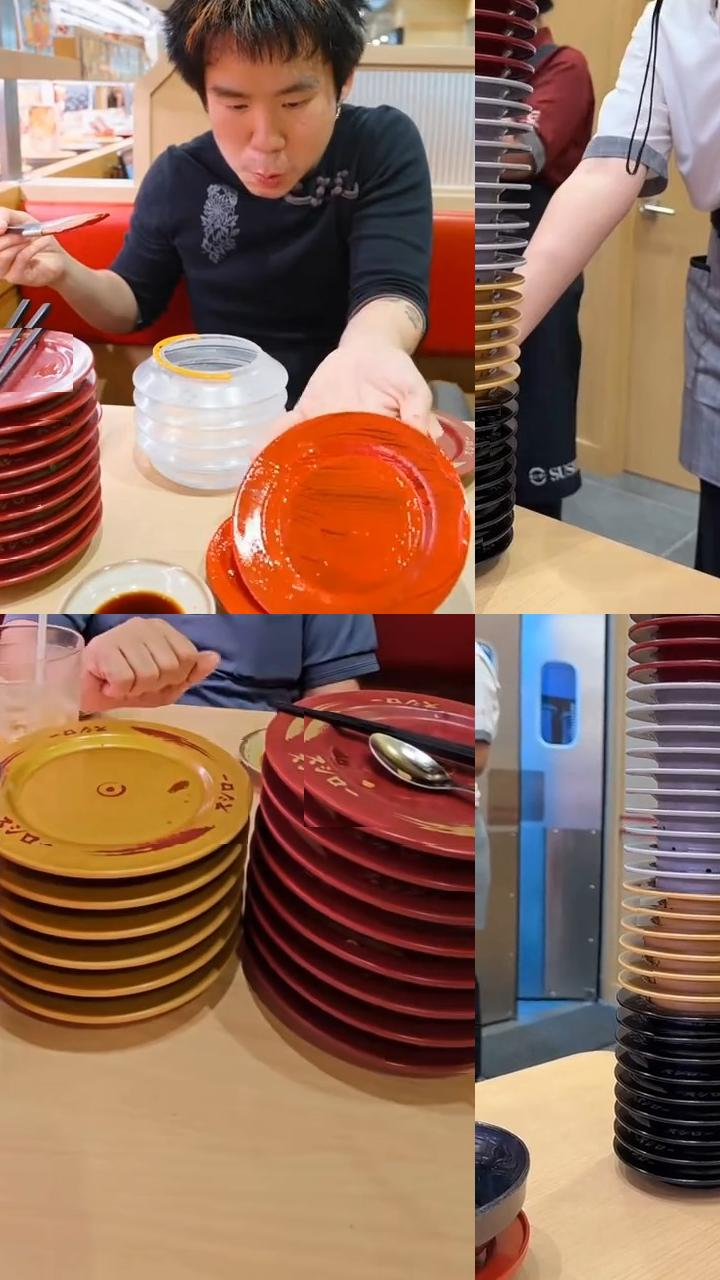Janback: (636, 1047, 720, 1067), (641, 1165, 720, 1184), (630, 1013, 720, 1028), (635, 1090, 720, 1105), (636, 1070, 720, 1085), (636, 1130, 720, 1144), (636, 1148, 720, 1162), (645, 1030, 720, 1045), (641, 1111, 720, 1125), (475, 399, 507, 417), (475, 501, 506, 515), (475, 424, 505, 437)
Jangold: (0, 739, 251, 846), (7, 873, 216, 906), (24, 997, 219, 1029), (10, 939, 215, 962), (19, 971, 210, 994), (4, 913, 210, 934), (633, 908, 720, 927), (638, 928, 720, 948), (651, 968, 720, 987), (640, 950, 720, 965), (651, 989, 720, 1005), (633, 894, 720, 906), (475, 279, 519, 299), (475, 304, 532, 316), (475, 320, 515, 336), (475, 380, 510, 398), (475, 340, 509, 356), (475, 360, 505, 375)
Janred: (294, 705, 475, 832), (344, 843, 475, 892), (0, 325, 79, 395), (373, 984, 475, 1024), (376, 894, 475, 929), (377, 932, 475, 965), (363, 1024, 475, 1046), (376, 1051, 475, 1075), (636, 618, 720, 641), (641, 637, 720, 661), (390, 970, 475, 992), (475, 7, 540, 32), (640, 661, 720, 681), (475, 51, 527, 74), (475, 32, 536, 51), (0, 532, 40, 553), (0, 576, 50, 591), (0, 512, 42, 527), (0, 494, 43, 507), (0, 419, 74, 426), (0, 558, 43, 568), (0, 472, 24, 485), (0, 447, 11, 463)
Janwhite: (631, 761, 720, 784), (639, 723, 720, 744), (628, 786, 720, 804), (634, 861, 720, 880), (638, 842, 720, 861), (647, 703, 720, 723), (475, 72, 529, 97), (646, 685, 720, 703), (475, 161, 541, 180), (638, 746, 720, 761), (475, 117, 535, 137), (641, 809, 720, 823), (475, 137, 527, 158), (475, 96, 524, 117), (475, 199, 532, 217), (475, 177, 532, 194), (641, 827, 720, 838), (475, 237, 527, 253), (475, 218, 528, 233), (475, 259, 524, 272)
